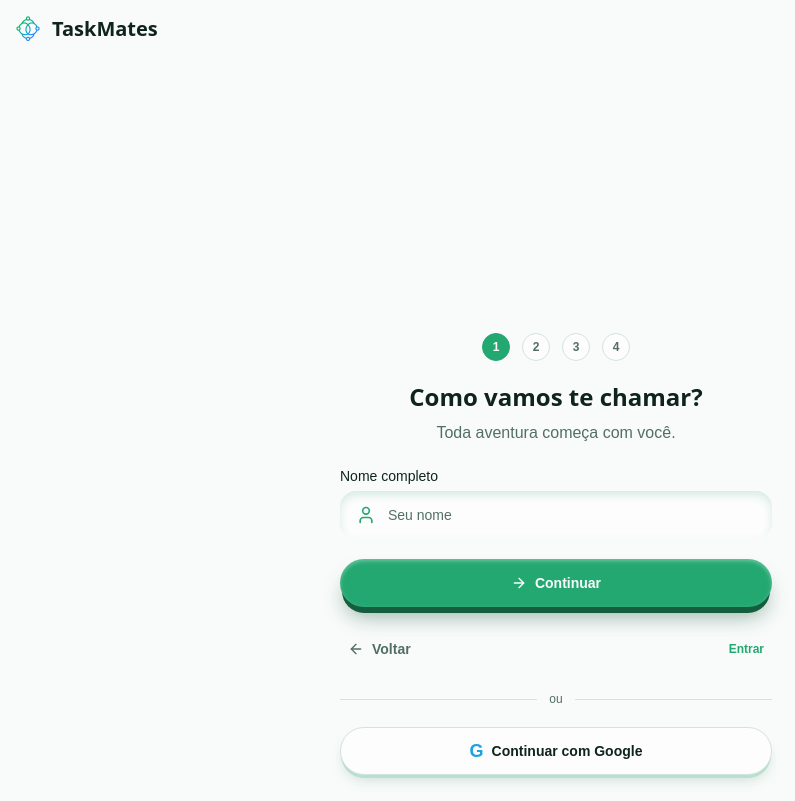
it: adventurer access submissions › keeps credentials when navigating back without sending them
Type "Aventureiro Teste" into the field labelled "Nome completo" at (556, 515), box [340,491,772,539]
Click the button "Continuar" at (556, 583), box [340,559,772,607]
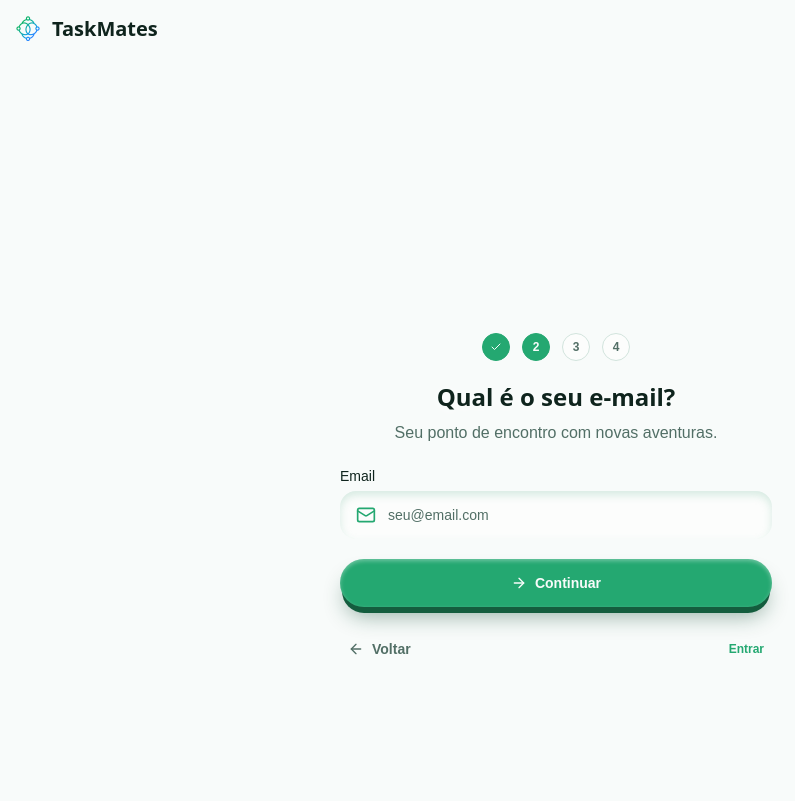
Type "adventure@example.com" into the field labelled "Email" at (556, 515), box [340,491,772,539]
Click the button "Continuar" at (556, 583), box [340,559,772,607]
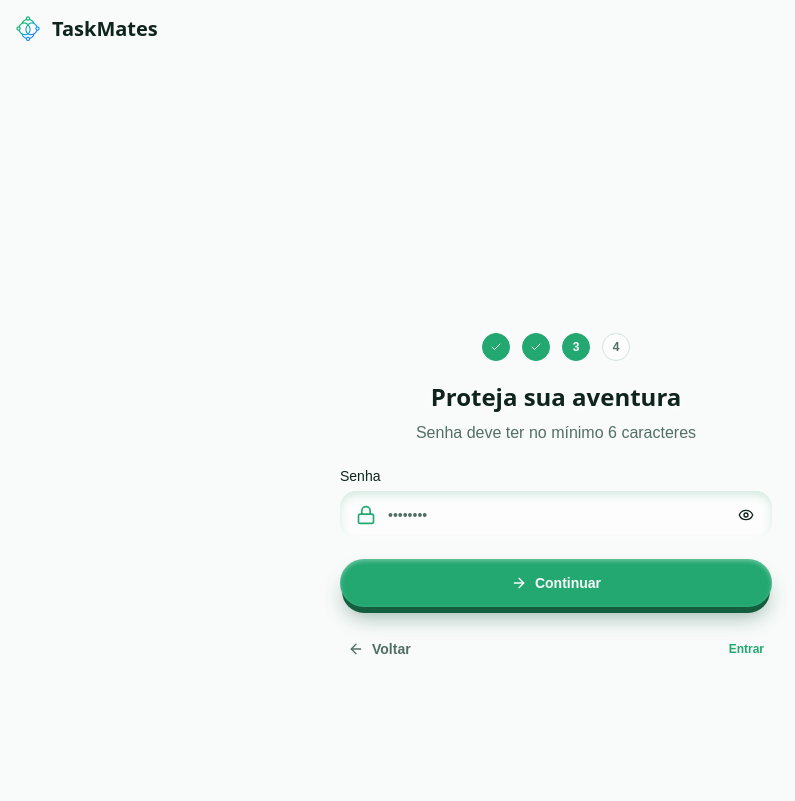
Type "test-password" into the password field labelled "Senha" at (556, 515), box [340,491,772,539]
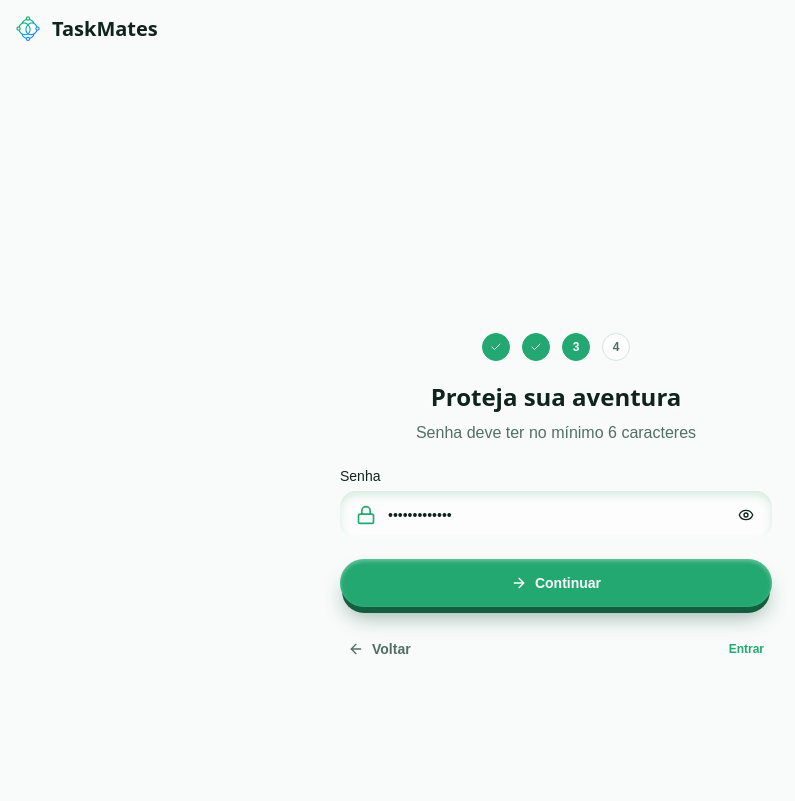
Click the button "Continuar" at (556, 583), box [340,559,772,607]
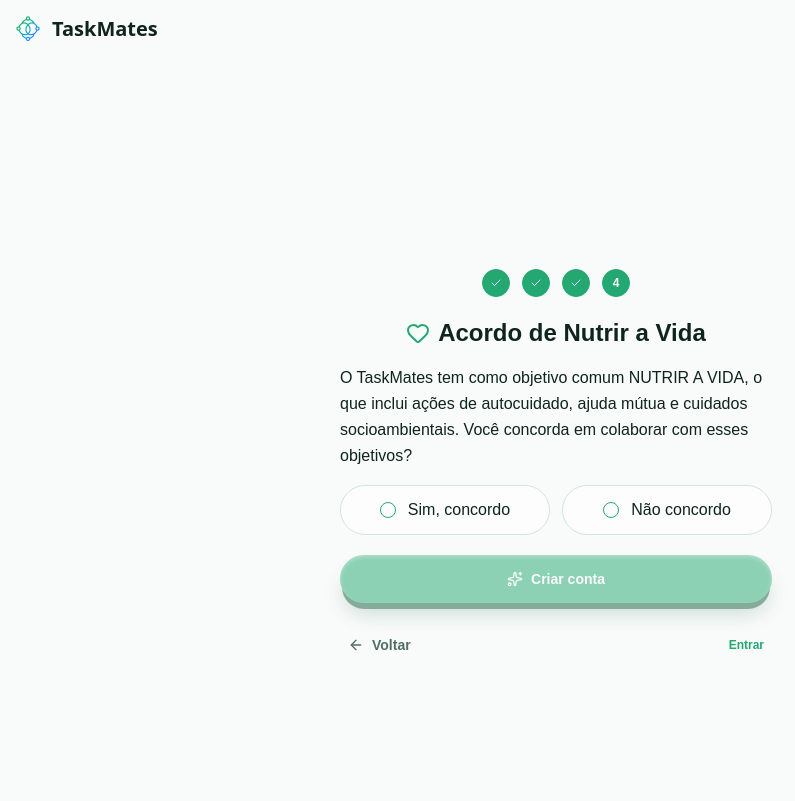
Click the button "Voltar" at (379, 645), box [340,623,419,667]
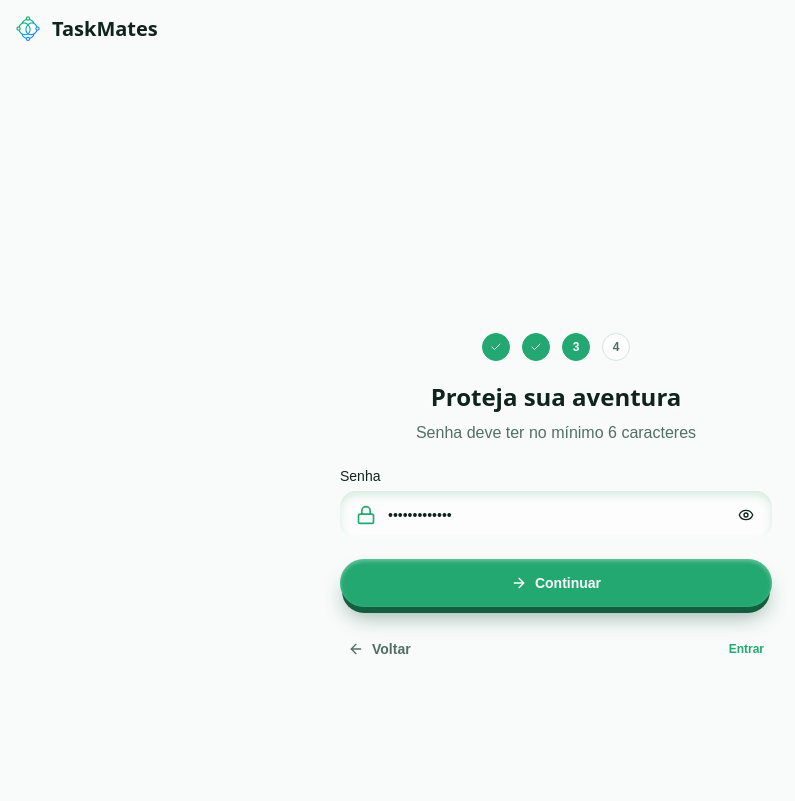
expect the password field labelled "Senha" holds "test-password": met, box [340,491,772,539]
Click the button "Voltar" at (379, 649), box [340,627,419,671]
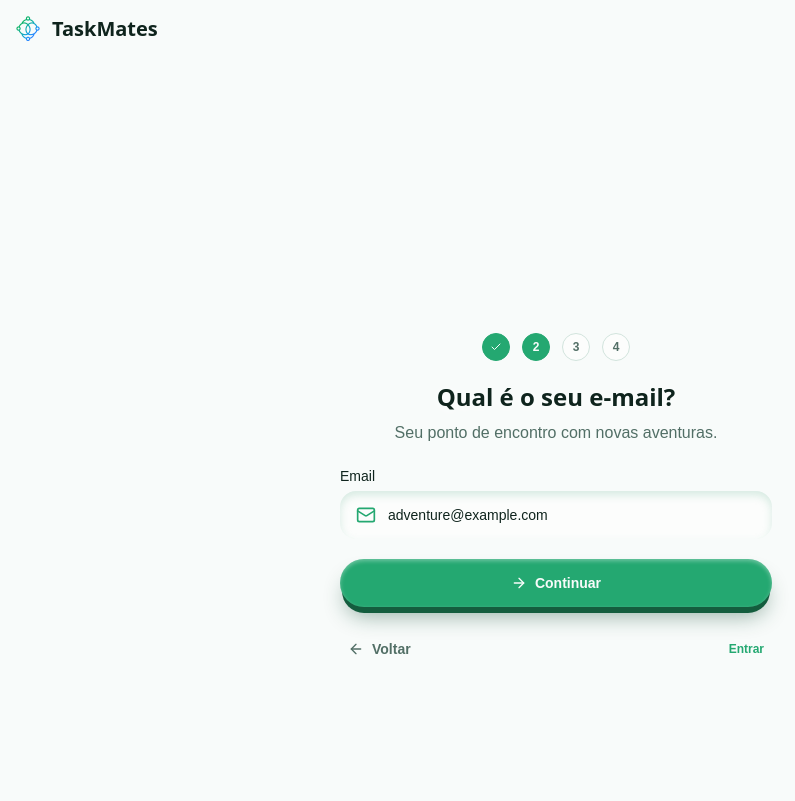
expect the field labelled "Email" holds "adventure@example.com": met, box [340,491,772,539]
